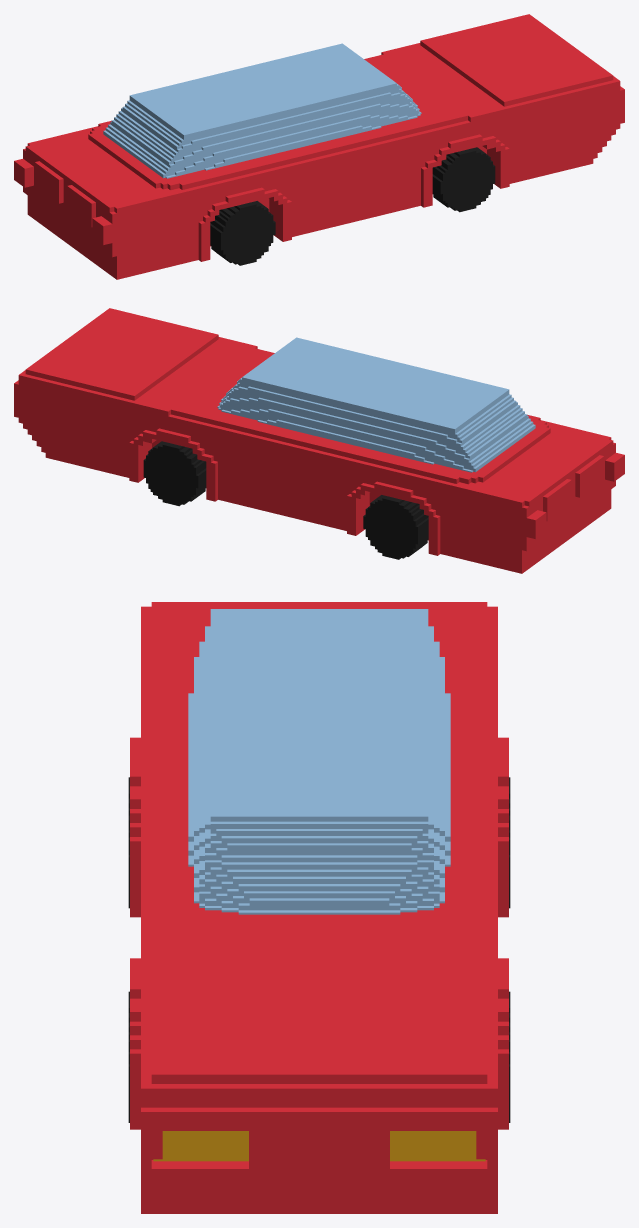
File: Auto1.fbx
3 renders of one model, top to bottom at view 1: azimuth 30°, elevation 25°; view 2: azimuth 150°, elevation 25°; view 3: azimuth 270°, elevation 25°, orthographic. The views are drawn at different scales.
Visible parts, largest first — view 1: Cube.001; view 2: Cube.001; view 3: Cube.001.
Part boxes in pixels (x1,y1,x2,y2): Cube.001: (14, 14, 624, 279); Cube.001: (14, 308, 624, 573); Cube.001: (128, 602, 510, 1213).
Bounding box in the file's own units: 558 × 127 × 177.
